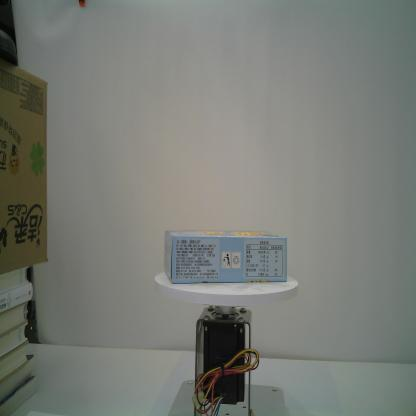Dessert: (164, 229, 288, 284)
